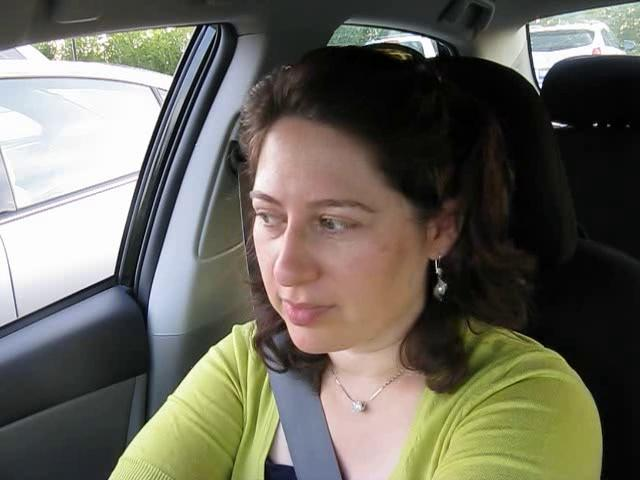no_yawn: (269, 289, 350, 329)
open_eyeL: (244, 199, 290, 235)
open_eyeR: (304, 205, 379, 242)
